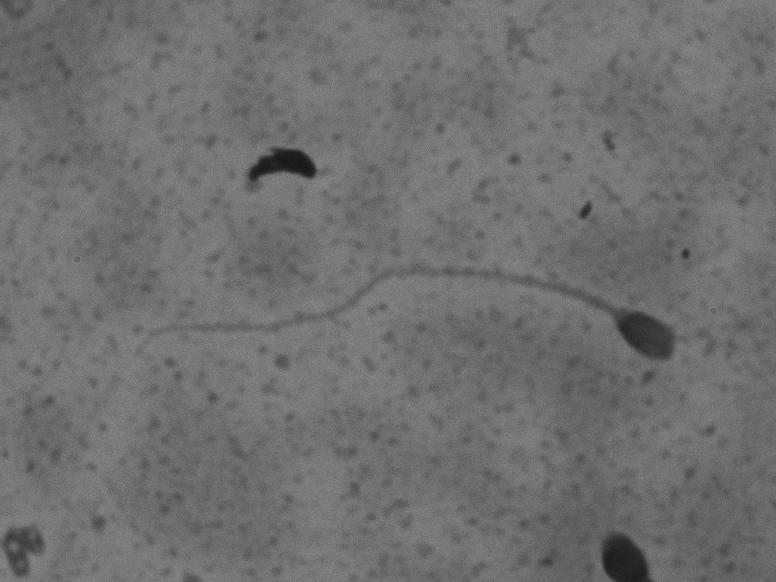Normal: (108, 250, 693, 383)
